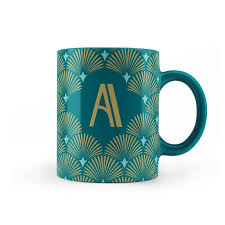mug: (49, 34, 212, 185)
